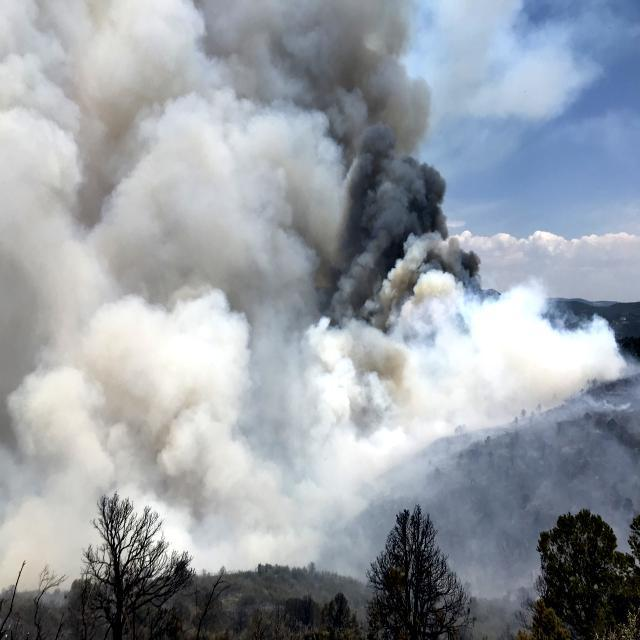Smoke: (0, 0, 612, 543)
